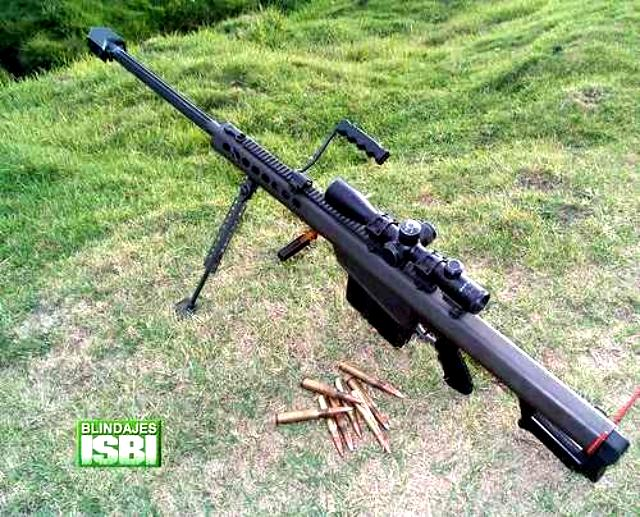rifle: (73, 17, 637, 487)
